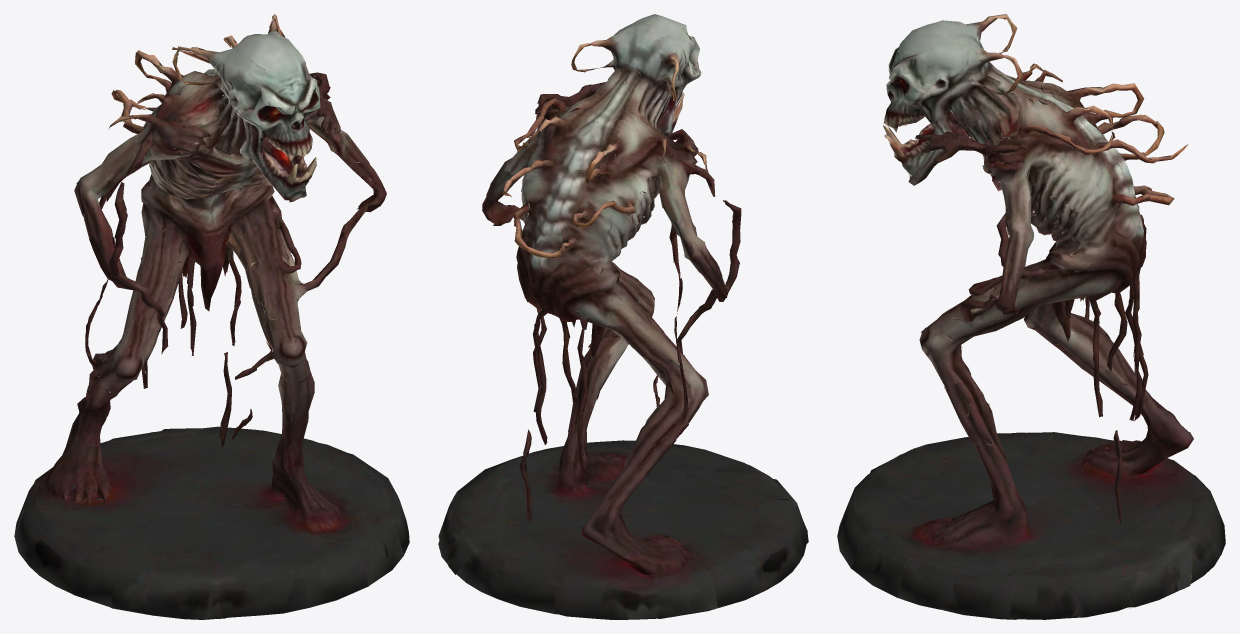
The model's file is petapeta_scary_dec.glb.
3 renders of one model, left to right at view 1: azimuth 30°, elevation 25°; view 2: azimuth 150°, elevation 25°; view 3: azimuth 270°, elevation 25°, orthographic. The views are drawn at different scales.
Parts seen in each view (by area): view 1: Mesh_0.006; view 2: Mesh_0.006; view 3: Mesh_0.006.
Part boxes in pixels (box(x1,y1,x2,y2)): Mesh_0.006: box(14, 14, 409, 619); Mesh_0.006: box(438, 14, 808, 619); Mesh_0.006: box(837, 14, 1225, 619).
Size of the model in its own units: 1.3 by 1.91 by 1.3.
Materials: 1 (1 with a texture image).
